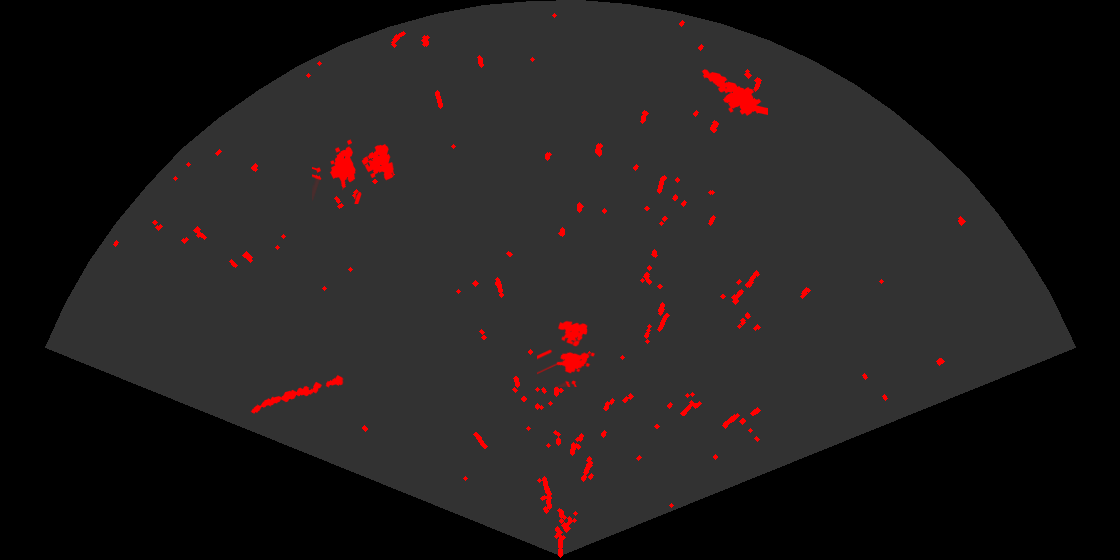cage: (312, 138, 395, 204), (537, 319, 596, 387)
chain: (249, 374, 346, 415)
frogman: (700, 68, 768, 117)
